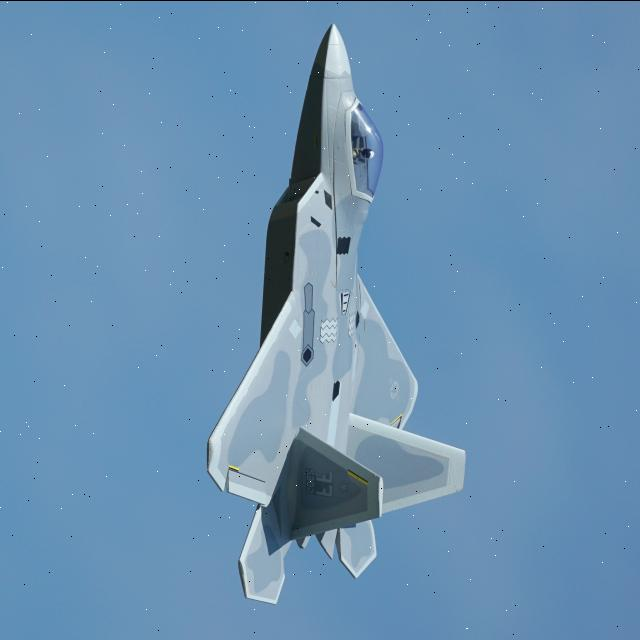F22: (168, 2, 488, 618)
